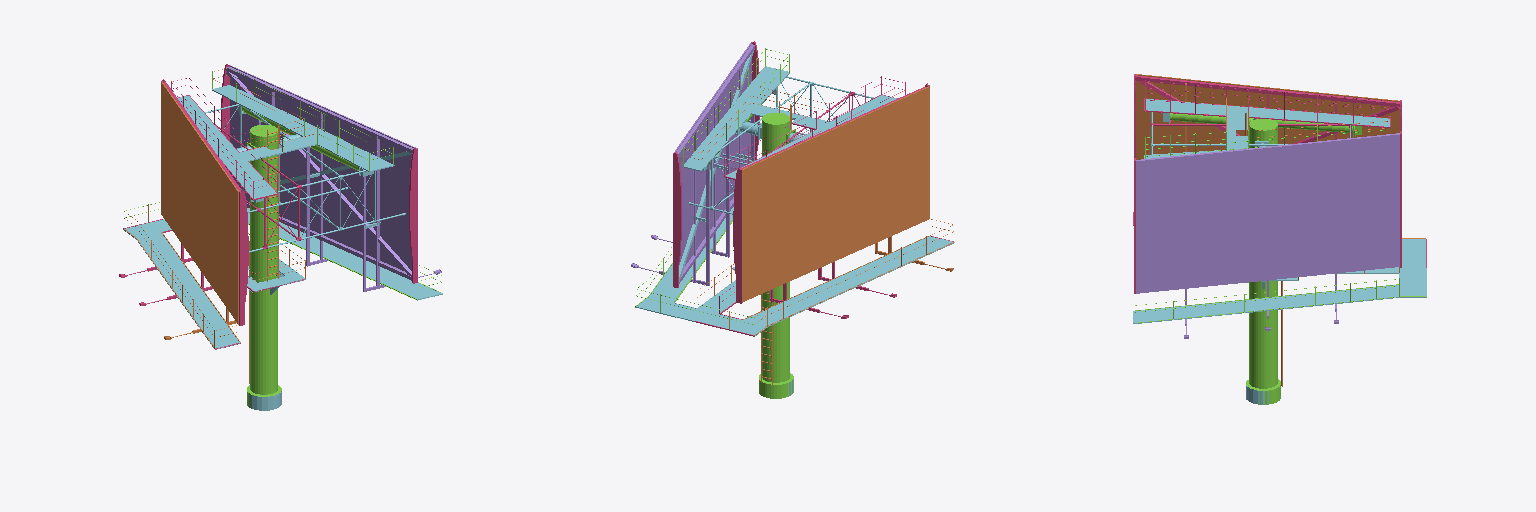
The picture shows the model from 3 angles: view 1: azimuth 30°, elevation 25°; view 2: azimuth 150°, elevation 25°; view 3: azimuth 270°, elevation 25°; orthographic projection.
Visible parts, largest first — view 1: pCube66, pCube92, polySurf12, pCylinde29, polySurf13, polySurf37, pCube77, polySurf38, pCube78, pCube79; view 2: pCube92, polySurf12, pCube66, polySurf13, pCylinde29, polySurf35, polySurf36, pCube77, pCube80, pCylinde28; view 3: pCube66, pCube92, polySurf12, pCylinde29, polySurf13, pCube99.
Boxes of the visible parts, x1=… form: pCube66: x1=230, y1=65, x2=416, y2=270; pCube92: x1=161, y1=82, x2=238, y2=324; polySurf12: x1=123, y1=208, x2=441, y2=348; pCylinde29: x1=250, y1=125, x2=277, y2=394; polySurf13: x1=178, y1=85, x2=391, y2=198; polySurf37: x1=239, y1=190, x2=248, y2=325; pCube77: x1=226, y1=67, x2=413, y2=152; polySurf38: x1=409, y1=148, x2=417, y2=283; pCube78: x1=226, y1=71, x2=411, y2=276; pCube79: x1=247, y1=203, x2=411, y2=280; pCube92: x1=742, y1=86, x2=929, y2=302; polySurf12: x1=636, y1=207, x2=954, y2=335; pCube66: x1=674, y1=43, x2=751, y2=265; polySurf13: x1=684, y1=67, x2=896, y2=178; pCylinde29: x1=762, y1=113, x2=789, y2=382; polySurf35: x1=673, y1=152, x2=681, y2=287; polySurf36: x1=733, y1=168, x2=741, y2=303; pCube77: x1=677, y1=44, x2=754, y2=156; pCube80: x1=679, y1=49, x2=754, y2=281; pCylinde28: x1=759, y1=373, x2=793, y2=398; pCube66: x1=1136, y1=134, x2=1399, y2=293; pCube92: x1=1136, y1=74, x2=1399, y2=159; polySurf12: x1=1134, y1=239, x2=1425, y2=323; pCylinde29: x1=1249, y1=119, x2=1277, y2=388; polySurf13: x1=1146, y1=99, x2=1389, y2=158; pCube99: x1=1136, y1=75, x2=1399, y2=106.
Bounding box in the file's own units: 14705 × 14401 × 13518.